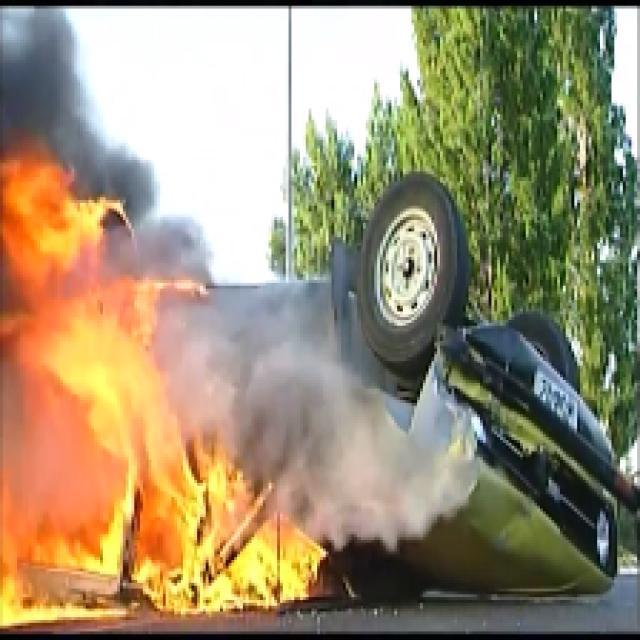Fire: (2, 142, 328, 638)
Smoke: (249, 292, 457, 542), (2, 2, 88, 138)
